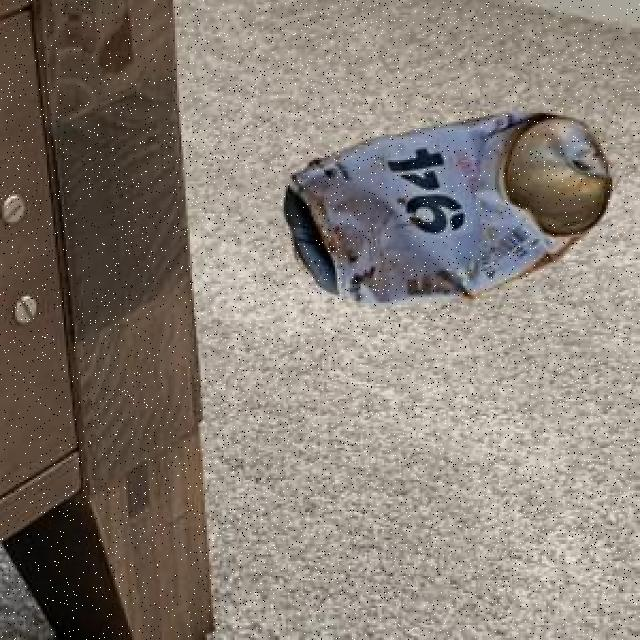Metal: (285, 112, 612, 305)
